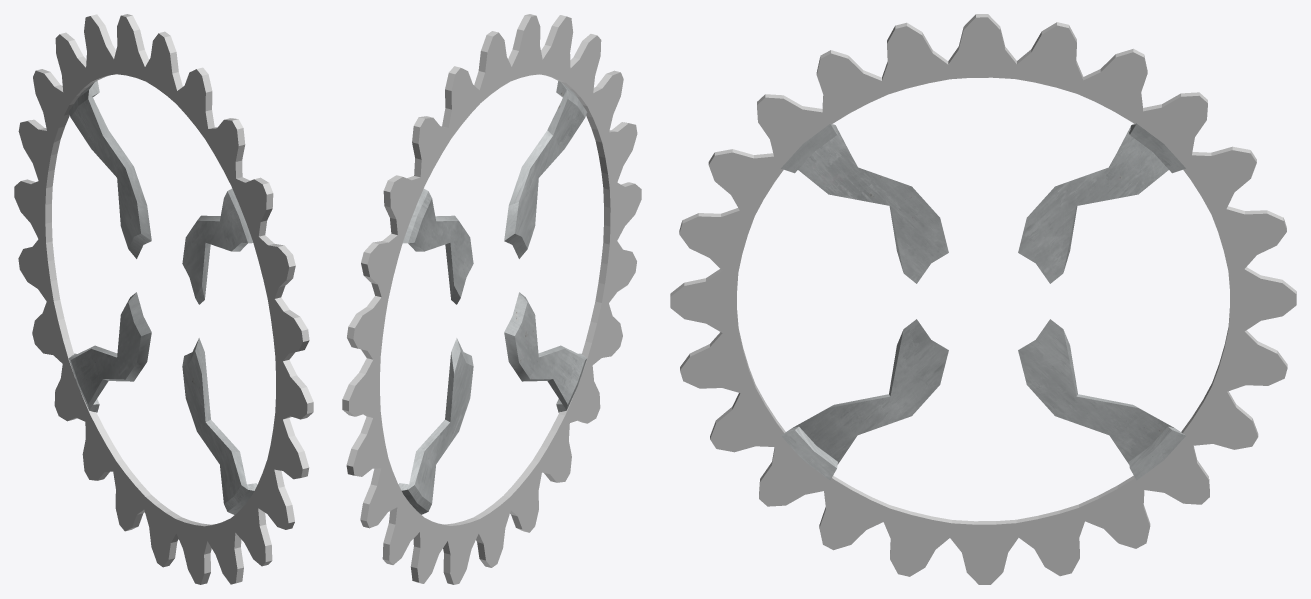
The model's file is Catraca frontal.glb.
3 views of the same model, side by side, from view 1: azimuth 30°, elevation 25°; view 2: azimuth 150°, elevation 25°; view 3: azimuth 270°, elevation 25° (orthographic). The views are drawn at different scales.
Parts seen in each view (by area): view 1: Catraca frontal; view 2: Catraca frontal; view 3: Catraca frontal.
Part boxes in pixels (x1,y1,x2,y2): Catraca frontal: [14, 14, 313, 584]; Catraca frontal: [342, 14, 641, 584]; Catraca frontal: [670, 14, 1296, 584].
Size of the model in its own units: 0.00279 by 0.1088 by 0.1088.
2 materials, 1 textured.
